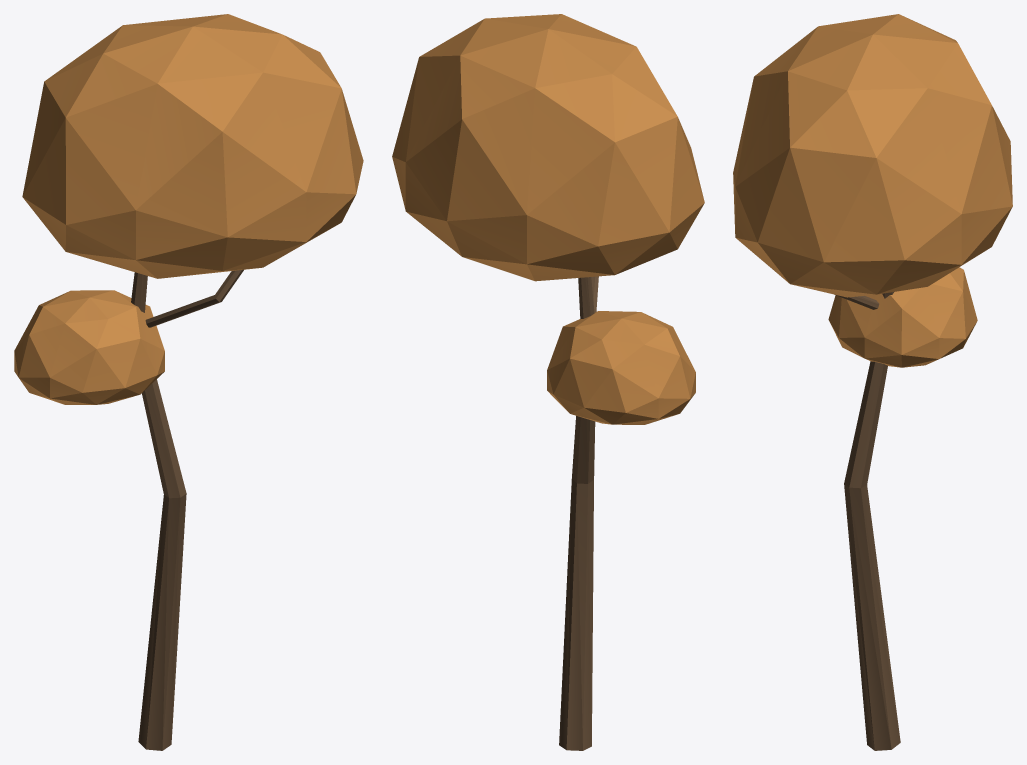
File: tree_orange_4.glb
3 renders of one model, left to right at view 1: azimuth 30°, elevation 25°; view 2: azimuth 150°, elevation 25°; view 3: azimuth 270°, elevation 25°, orthographic. The views are drawn at different scales.
Parts seen in each view (by area): view 1: Tree Orange 4; view 2: Tree Orange 4; view 3: Tree Orange 4.
Boxes of the visible parts, x1,y1,x2,y2 form: Tree Orange 4: (14,14,363,750); Tree Orange 4: (392,14,704,750); Tree Orange 4: (733,14,1012,750).
Size of the model in its own units: 0.1871 by 0.4181 by 0.1458.
